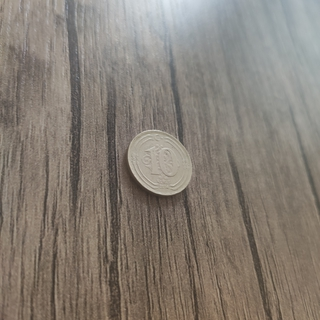10KURUS: (123, 127, 194, 199)
